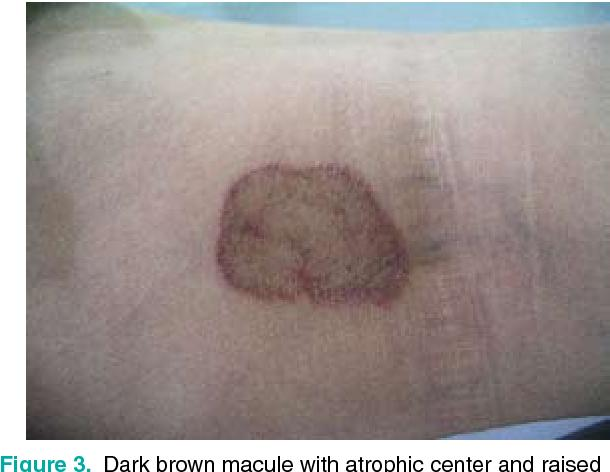annular lichen planus: (196, 132, 449, 337)
